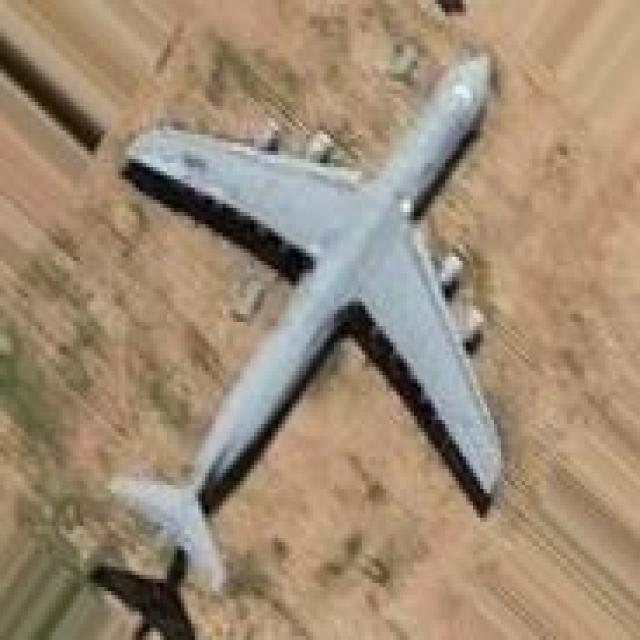C-5_TopDown: (90, 45, 518, 640)
